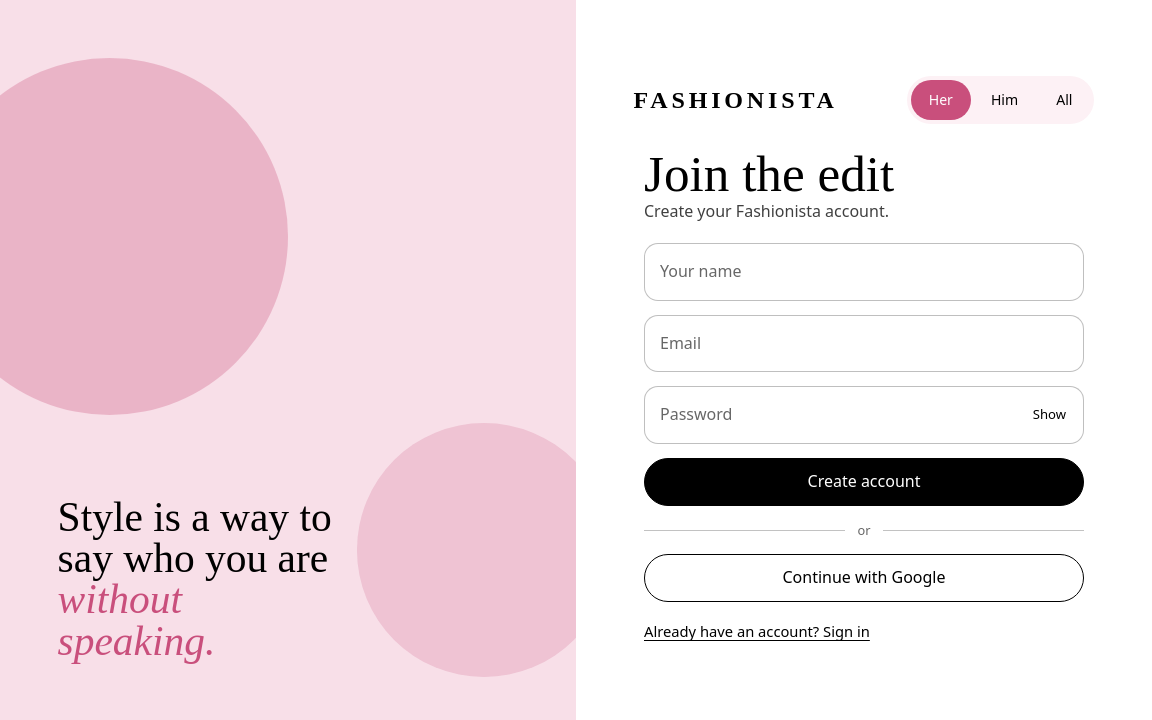
signup: duplicate email › detects an existing email when confirmation is ON (empty identities) and sends them to login
In the field labelled "Your name": (864,272) [644,243,1084,301], type "Jane"
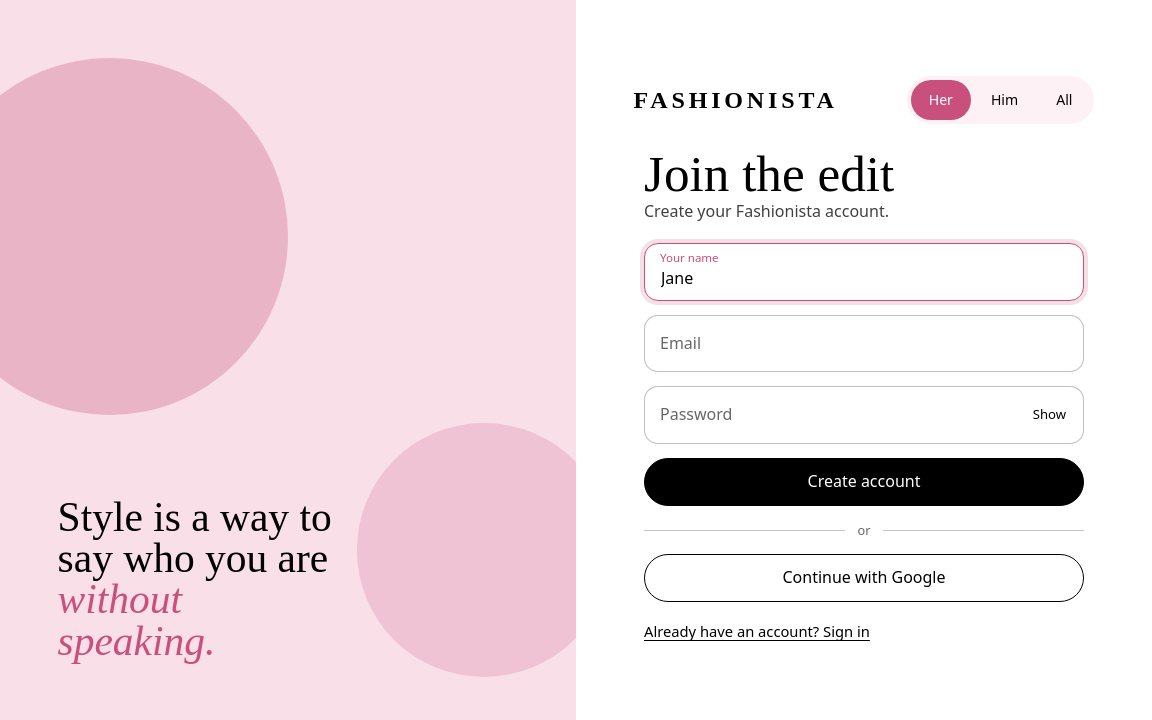
In the field labelled "Email": (864,343) [644,315,1084,372], type "jane@example.com"
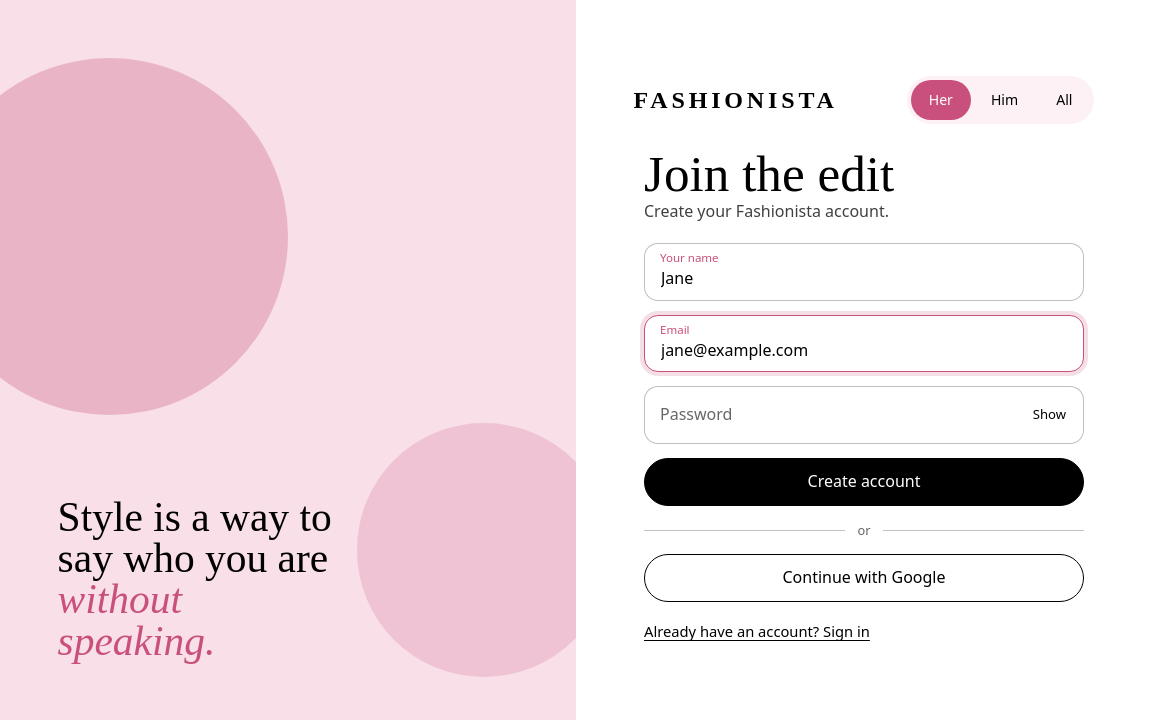
In the password field labelled "Password": (864,415) [644,386,1084,444], type "supersecret1"
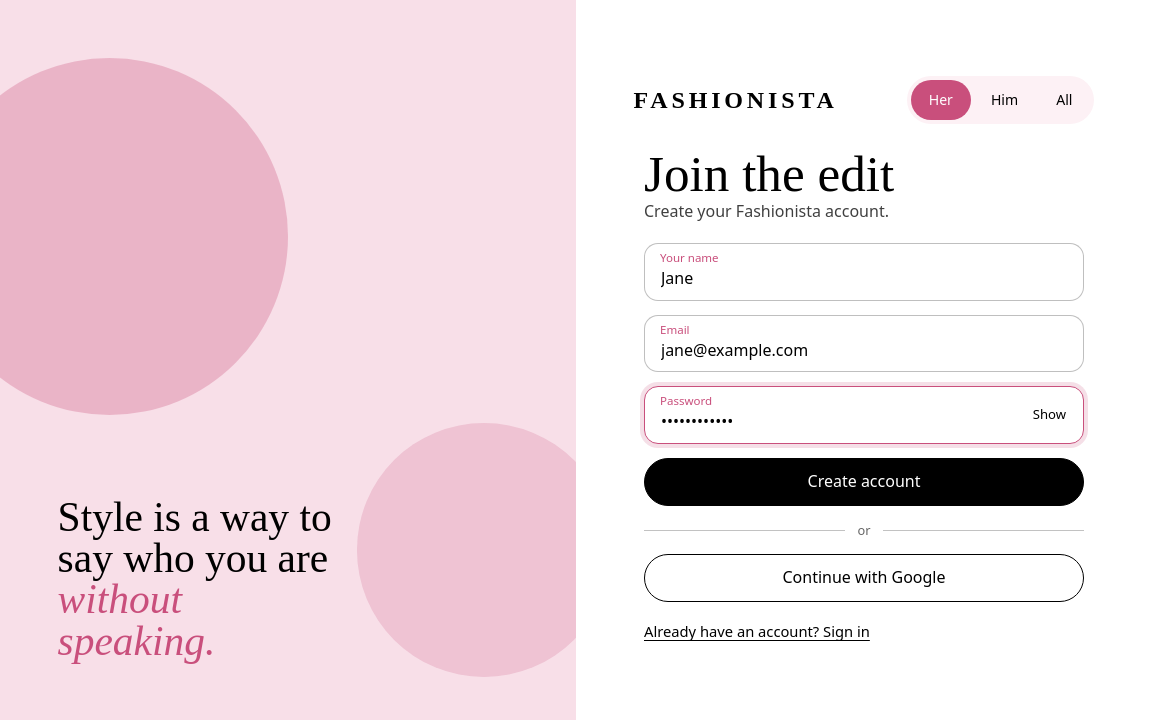
Click the button "Create account": (864,482) [644,458,1084,506]
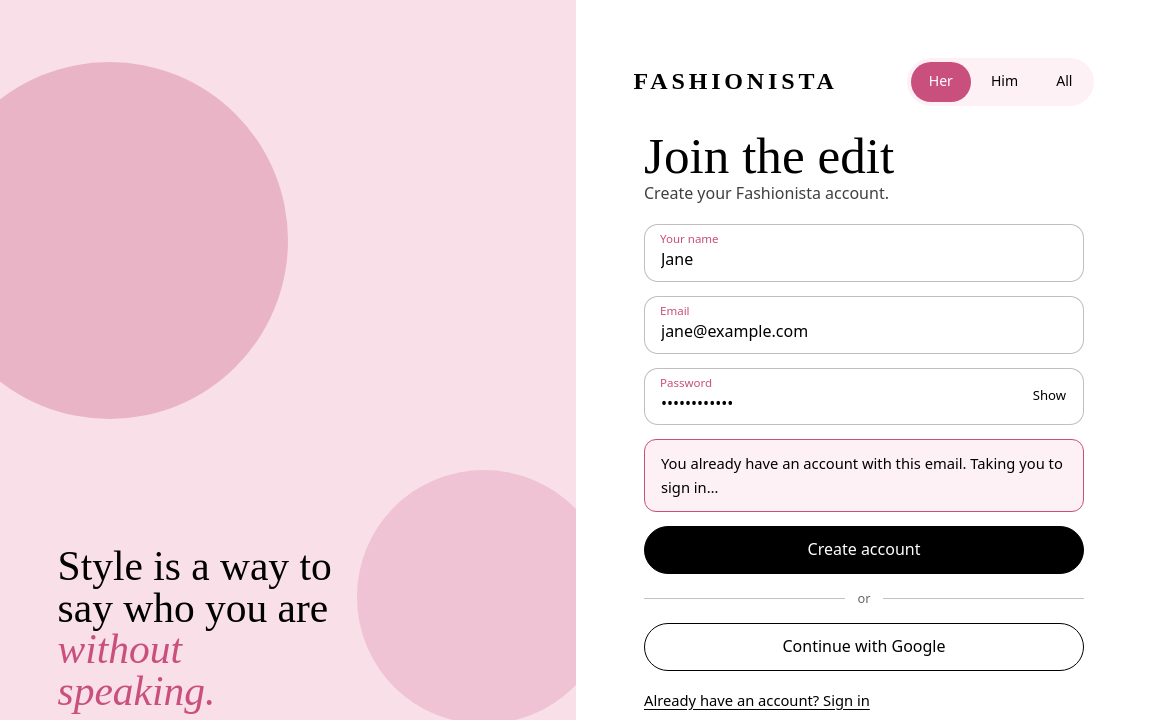
Result: the text "You already have an account with this email. Taking you to sign in…" is shown at [644,439,1084,512]
